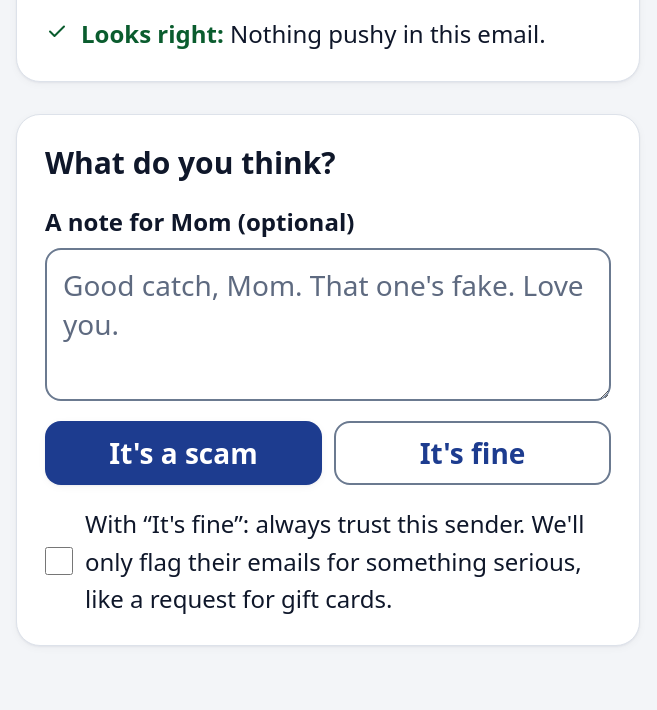
Test: feed item detail › keeps the buttons and says so plainly when sending fails
(page scrolled)
Click the button "It's a scam".
click(184, 453)  # box [45,421,322,485]
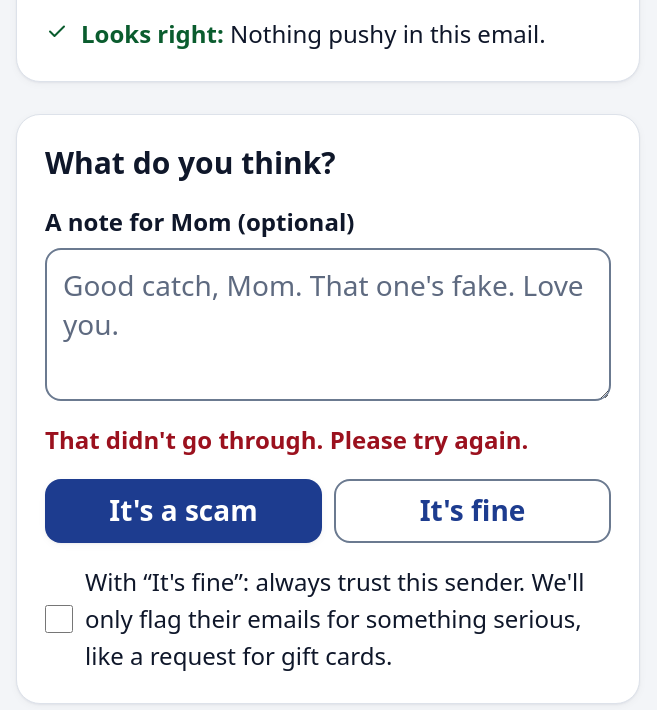
Now the message reads "That didn't go through. Please try again.", box [45,423,528,456]
